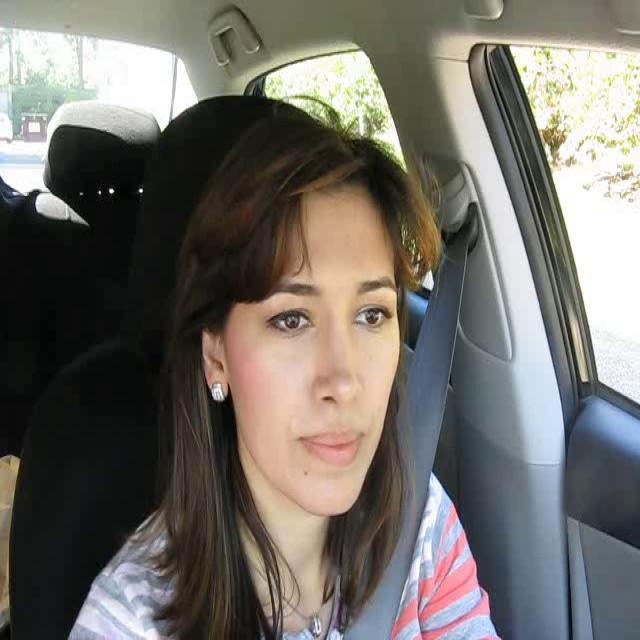close: (296, 423, 368, 470)
